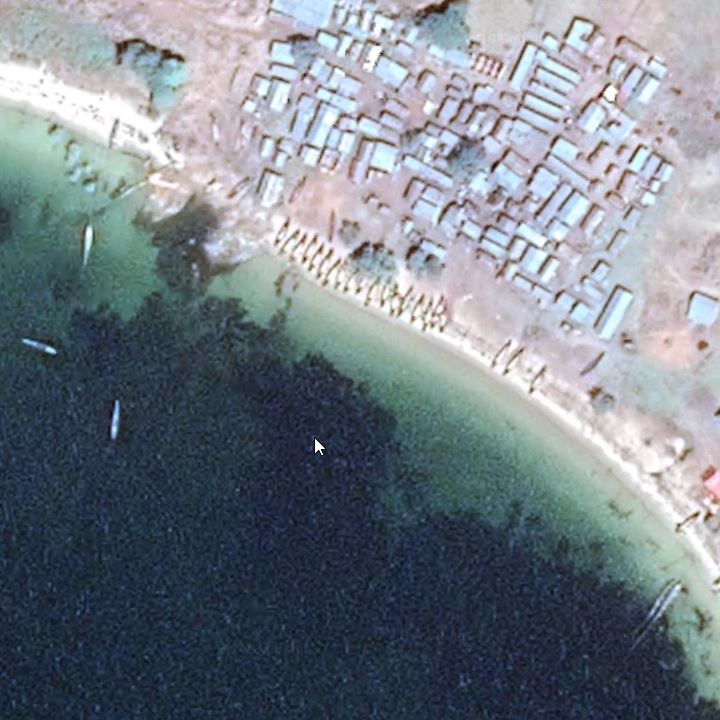boat: (77, 219, 100, 268), (578, 349, 613, 378), (18, 337, 61, 359), (288, 168, 311, 208), (226, 172, 257, 201), (527, 360, 551, 397), (502, 345, 527, 380), (672, 508, 704, 535), (490, 337, 514, 372), (272, 214, 293, 253), (313, 246, 335, 283), (205, 107, 222, 154), (110, 395, 125, 446), (300, 230, 319, 267), (321, 256, 341, 290), (407, 294, 427, 326), (362, 276, 379, 313), (396, 286, 415, 319), (418, 297, 434, 335), (291, 230, 308, 264), (430, 297, 449, 327), (341, 265, 355, 305), (279, 228, 296, 260), (308, 243, 325, 275), (387, 282, 401, 320), (334, 262, 349, 295), (353, 272, 371, 297), (379, 277, 391, 310), (327, 205, 337, 244), (438, 306, 449, 339)
